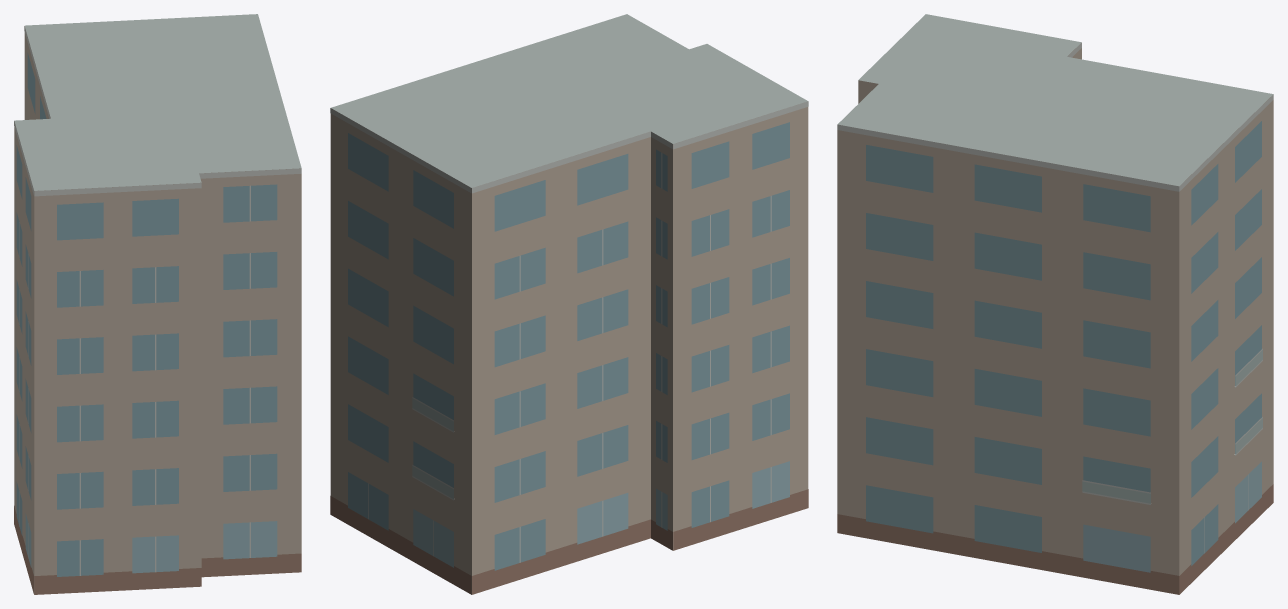
The model's file is survey-upis-32920488.glb.
3 renders of one model, left to right at view 1: azimuth 30°, elevation 25°; view 2: azimuth 150°, elevation 25°; view 3: azimuth 270°, elevation 25°, orthographic.
Visible parts, largest first — view 1: survey-upis-32920488.tmp; view 2: survey-upis-32920488.tmp; view 3: survey-upis-32920488.tmp.
Boxes of the visible parts, bbox=[...] form: survey-upis-32920488.tmp: bbox=[14, 14, 301, 594]; survey-upis-32920488.tmp: bbox=[330, 14, 808, 594]; survey-upis-32920488.tmp: bbox=[837, 14, 1273, 594].
Bounding box in the file's own units: 16.38 × 18.1 × 17.52.
